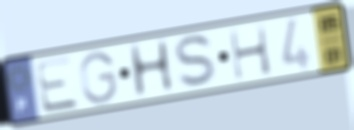4: (279, 16, 313, 74)
E: (33, 54, 83, 116)
G: (78, 50, 119, 106)
H: (125, 36, 177, 102), (226, 22, 275, 83)
S: (172, 33, 223, 91)
